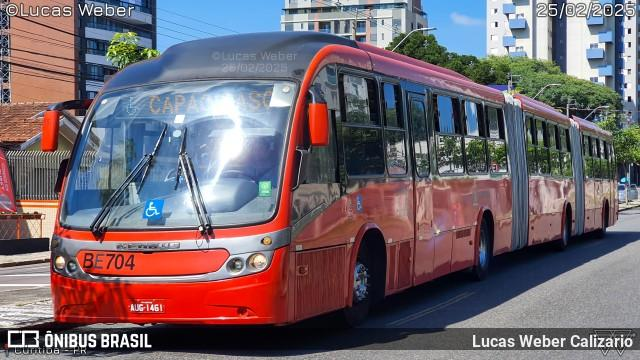CAPAO RASO: (144, 84, 276, 116)
